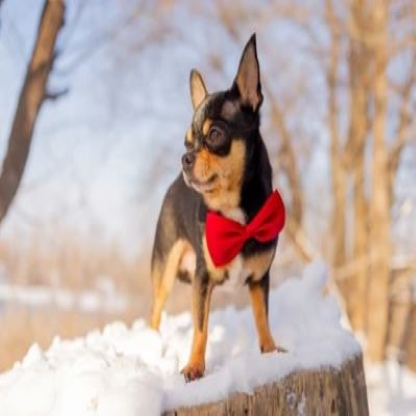chihuahua: (149, 32, 291, 385)
